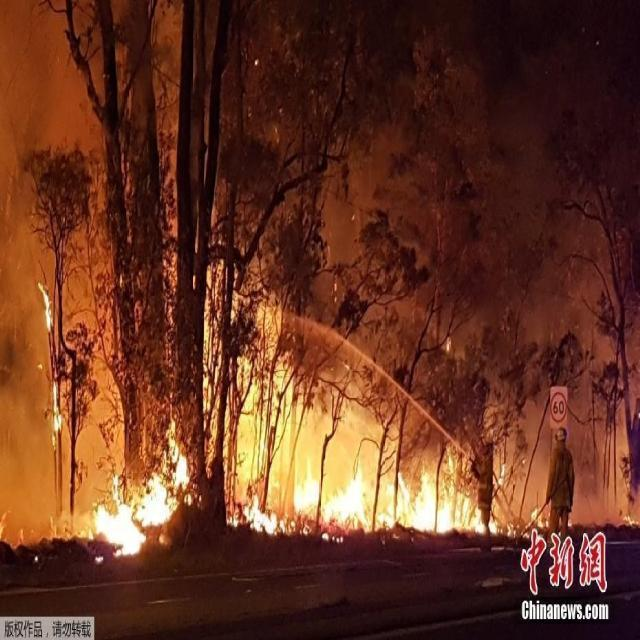Fire: (202, 260, 550, 548), (89, 421, 192, 565), (50, 378, 64, 450), (36, 280, 54, 334)
Smoke: (313, 66, 639, 527), (1, 1, 126, 547)
